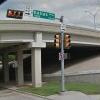Traffic light: (46, 25, 79, 64)
